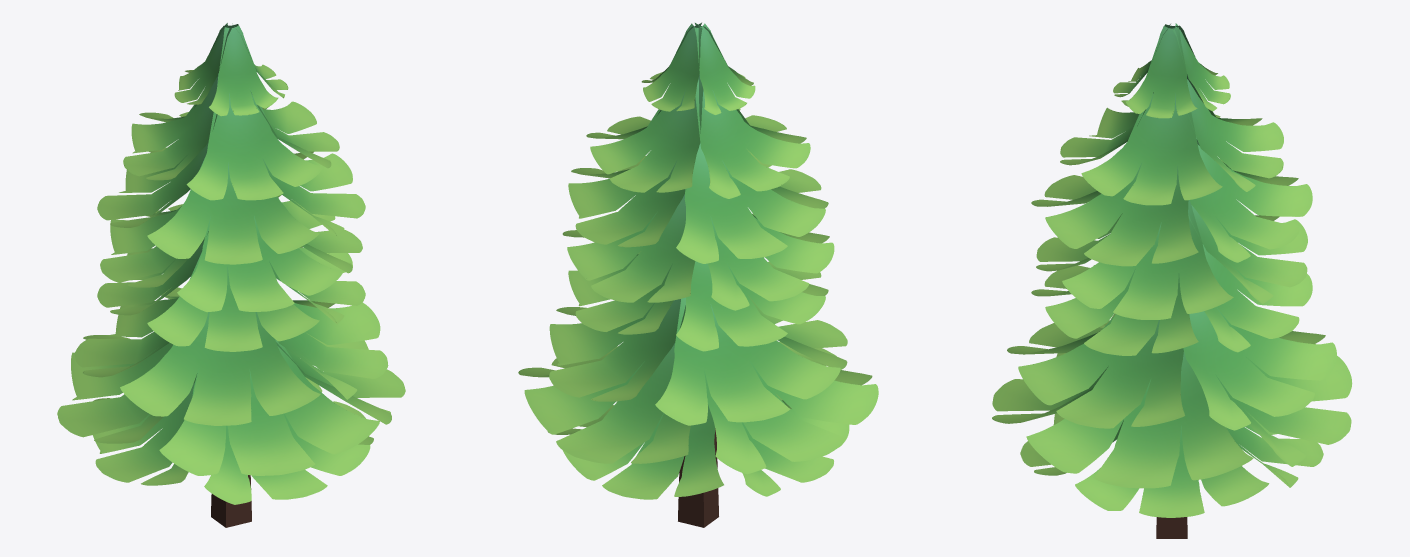
The model's file is Tree_1.fbx.
The picture shows the model from 3 angles, left to right: view 1: azimuth 30°, elevation 25°; view 2: azimuth 150°, elevation 25°; view 3: azimuth 270°, elevation 25°; orthographic projection. The views are drawn at different scales.
Parts seen in each view (by area): view 1: IMG_7385.004, IMG_7385.001, IMG_7385.005, IMG_7385.006, IMG_7385.003, IMG_7385.002, IMG_7385, IMG_7385.007, Cube; view 2: IMG_7385.004, IMG_7385.001, IMG_7385.005, IMG_7385.006, IMG_7385.003, IMG_7385.002, IMG_7385, IMG_7385.007, Cube; view 3: IMG_7385.004, IMG_7385.001, IMG_7385.005, IMG_7385.006, IMG_7385.003, IMG_7385.002, IMG_7385, IMG_7385.007, Cube.
Part boxes in pixels (left/top/right/bottom): IMG_7385.004: left=74, top=287, right=388, bottom=425; IMG_7385.001: left=57, top=332, right=405, bottom=475; IMG_7385.005: left=97, top=142, right=365, bottom=264; IMG_7385.006: left=123, top=73, right=339, bottom=200; IMG_7385.003: left=100, top=194, right=362, bottom=312; IMG_7385.002: left=97, top=241, right=365, bottom=351; IMG_7385: left=92, top=377, right=373, bottom=504; IMG_7385.007: left=174, top=23, right=288, bottom=116; Cube: left=211, top=475, right=251, bottom=527; IMG_7385.004: left=549, top=295, right=847, bottom=425; IMG_7385.001: left=518, top=342, right=878, bottom=474; IMG_7385.005: left=568, top=143, right=828, bottom=263; IMG_7385.006: left=586, top=74, right=810, bottom=198; IMG_7385.003: left=562, top=194, right=834, bottom=310; IMG_7385.002: left=568, top=251, right=828, bottom=351; IMG_7385: left=547, top=394, right=849, bottom=499; IMG_7385.007: left=641, top=22, right=755, bottom=114; Cube: left=678, top=428, right=718, bottom=527; IMG_7385.004: left=1007, top=307, right=1336, bottom=430; IMG_7385.001: left=992, top=320, right=1352, bottom=488; IMG_7385.005: left=1031, top=137, right=1312, bottom=266; IMG_7385.006: left=1060, top=74, right=1283, bottom=205; IMG_7385.003: left=1036, top=200, right=1307, bottom=319; IMG_7385.002: left=1031, top=244, right=1312, bottom=355; IMG_7385: left=1020, top=410, right=1323, bottom=517; IMG_7385.007: left=1113, top=23, right=1230, bottom=118; Cube: left=1156, top=517, right=1187, bottom=538.
Size of the model in its own units: 1305 by 1654 by 1305.
